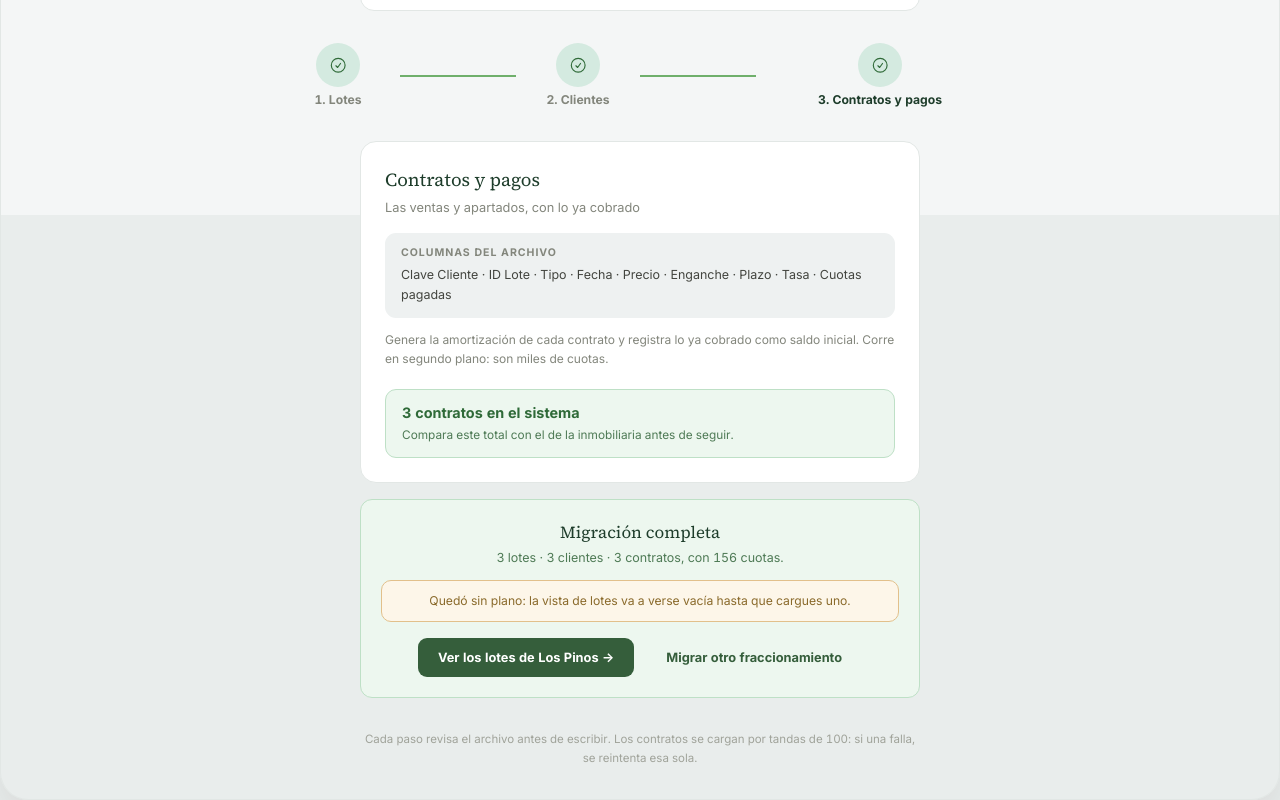
Test: Asistente de migración: varios fraccionamientos › al terminar deja empezar con otro fraccionamiento
(page scrolled)
What coordinates should you click on to do the following:
click the button "Migrar otro fraccionamiento"
I would click on:
 (754, 657)
Its box is [646,638,862,677].
(page scrolled)
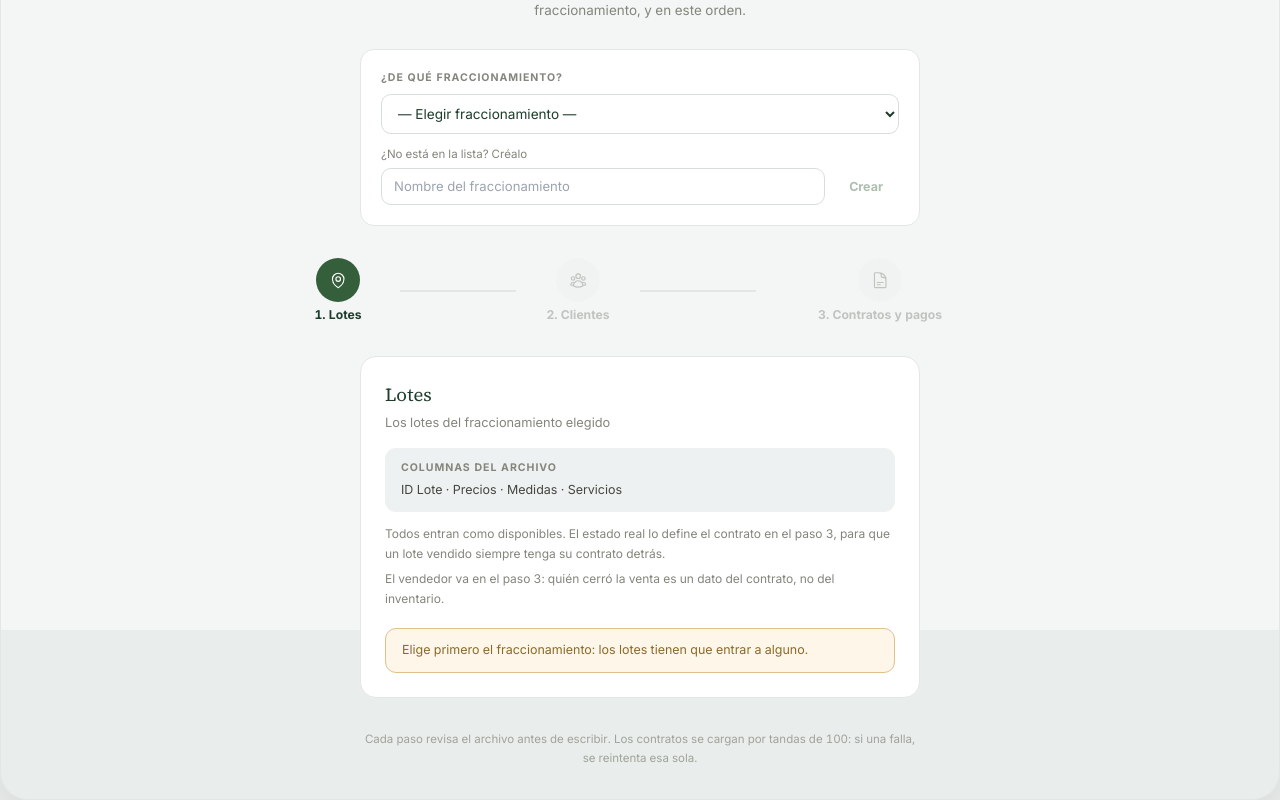
Result: the text "Migración completa" is gone
Result: the text "Elige primero el fraccionamiento" is shown at [402,642,808,657]
